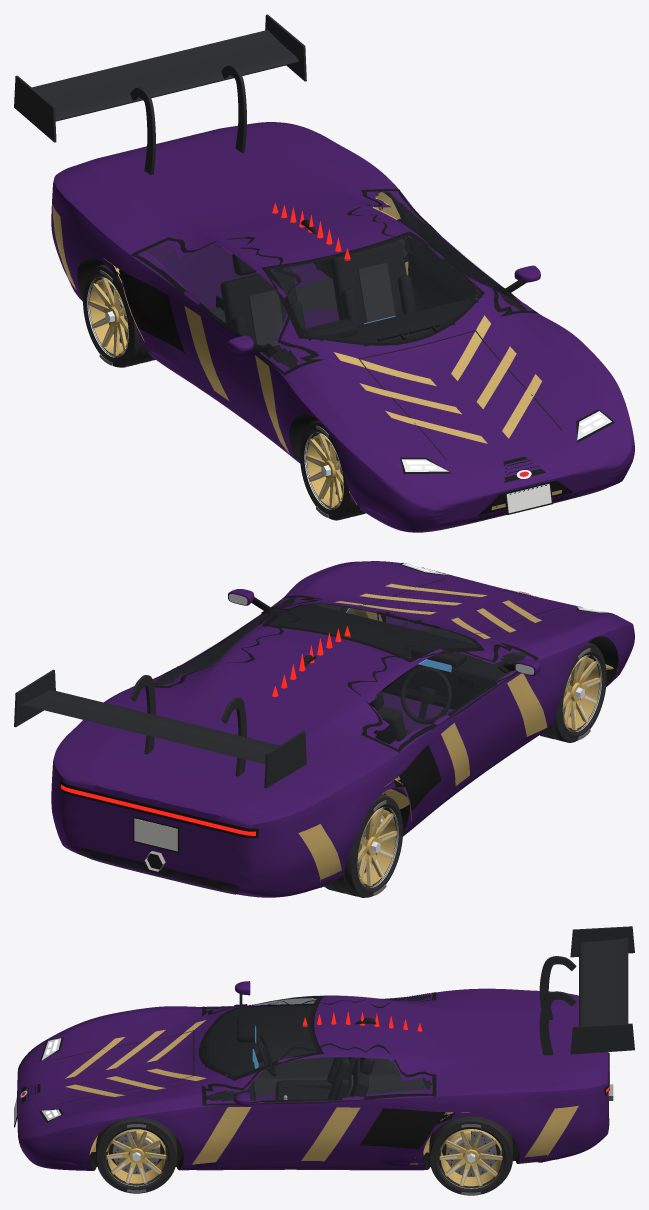
Rendered from shogun.glb.
3 views of the same model, one above another, from view 1: azimuth 30°, elevation 25°; view 2: azimuth 150°, elevation 25°; view 3: azimuth 270°, elevation 25° (orthographic). The views are drawn at different scales.
Visible parts, largest first — view 1: Body, Wheel_RR, Wheel_FR; view 2: Body, Wheel_RR, Wheel_FR; view 3: Body, Wheel_RL, Wheel_FL.
Part boxes in pixels (bbox=[...]): Body: bbox=[14, 14, 634, 532]; Wheel_RR: bbox=[83, 264, 155, 367]; Wheel_FR: bbox=[300, 420, 365, 520]; Body: bbox=[14, 561, 634, 897]; Wheel_RR: bbox=[324, 794, 402, 897]; Wheel_FR: bbox=[540, 642, 606, 742]; Body: bbox=[14, 926, 634, 1170]; Wheel_RL: bbox=[429, 1116, 512, 1195]; Wheel_FL: bbox=[96, 1117, 177, 1193].
Size of the model in its own units: 2.37 by 1.57 by 5.2.
